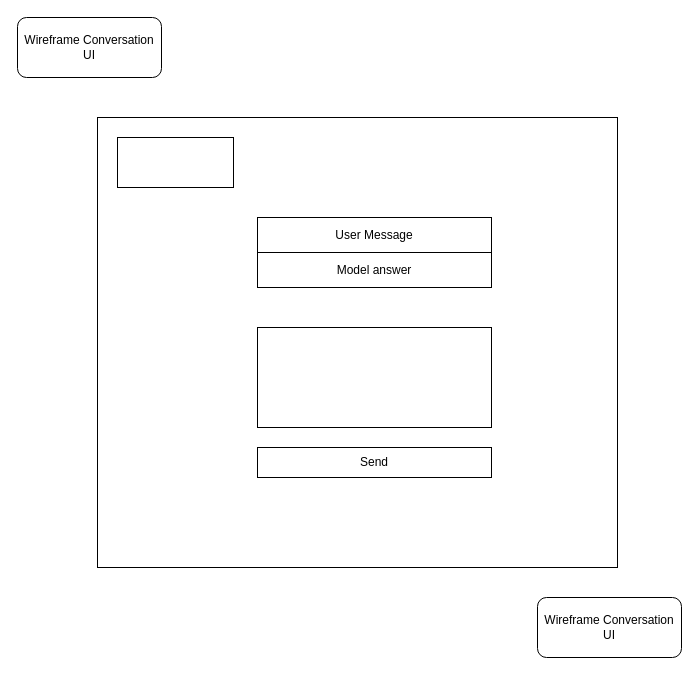
This 699x675 diagram has some shape labels left out. The shapes that lost their labels are listed below. From the top down, each one's centre as x and y in pixels, then its label:
point 175,162: Conversation : name
point 374,377: User message input
